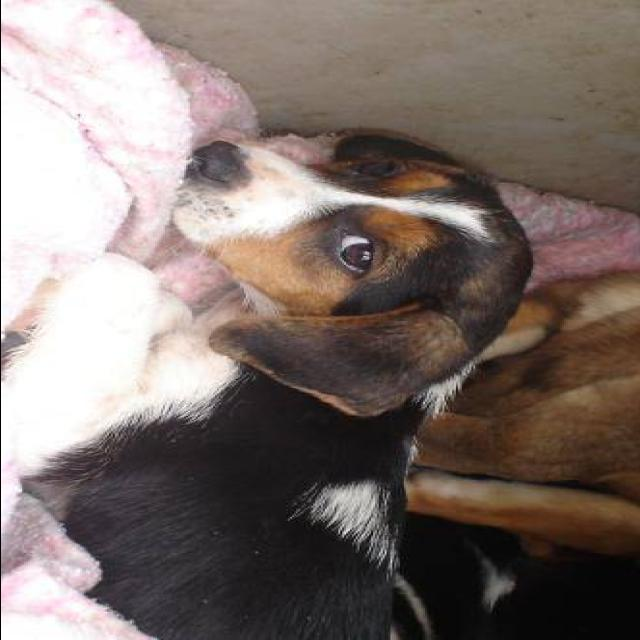dog: (0, 112, 544, 640)
